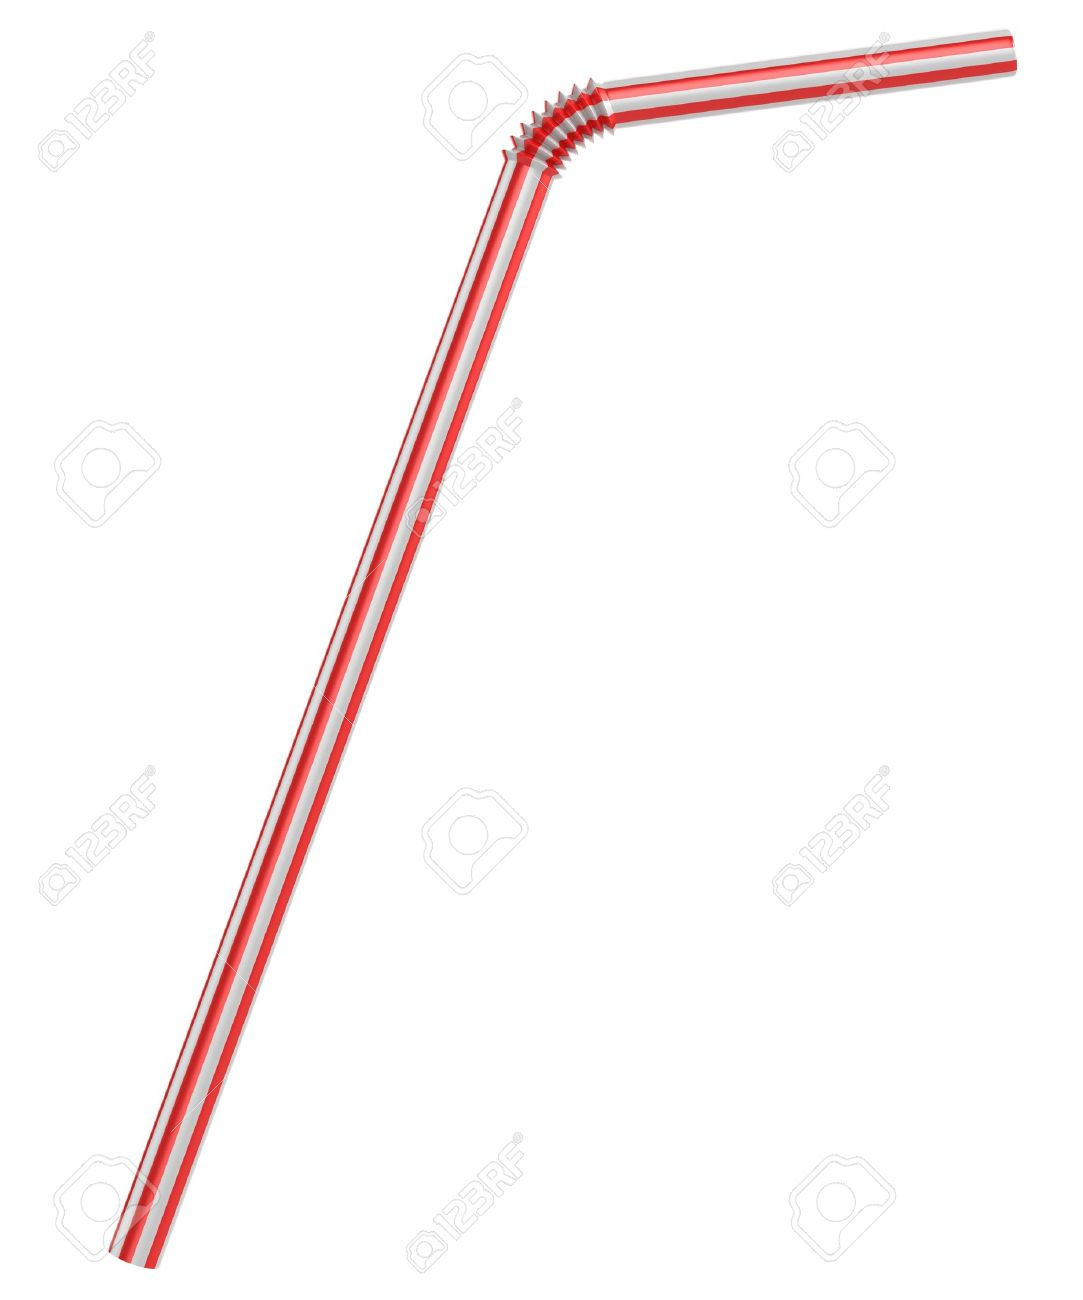Drinking Straw: (105, 25, 1028, 1272)
